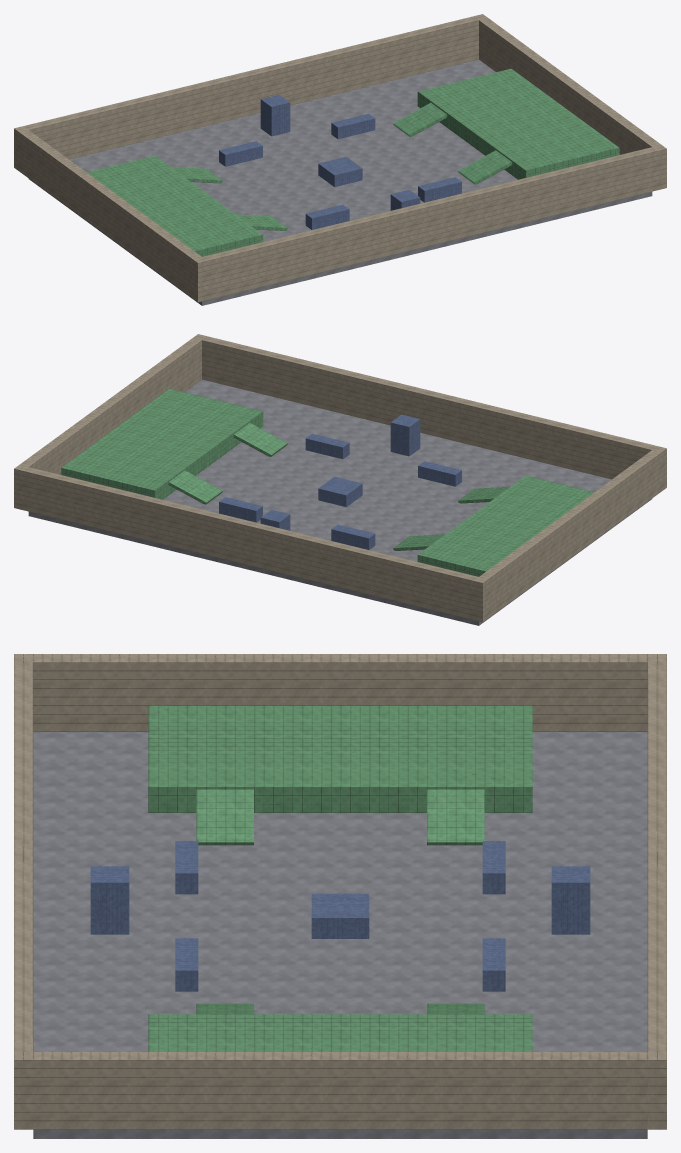
The model's file is arena02.glb.
3 renders of one model, top to bottom at view 1: azimuth 30°, elevation 25°; view 2: azimuth 150°, elevation 25°; view 3: azimuth 270°, elevation 25°, orthographic. The views are drawn at different scales.
Parts seen in each view (by area): view 1: floor, wall_south, wall_north, platform_east, wall_west, platform_west, wall_east, pillar_n, cover_centre, ramp_east_s, ramp_east_n, cover_ne (+6 smaller); view 2: floor, wall_north, wall_south, platform_east, wall_west, platform_west, wall_east, pillar_s, cover_centre, ramp_east_n, ramp_east_s, cover_se (+6 smaller); view 3: floor, wall_east, platform_west, wall_west, platform_east, wall_north, wall_south, ramp_west_n, ramp_west_s, pillar_n, pillar_s, cover_centre (+4 smaller).
Part boxes in pixels (x1,y1,x2,y2): floor: (29, 59, 652, 305); wall_south: (192, 145, 666, 302); wall_north: (14, 14, 487, 170); platform_east: (417, 68, 619, 179); wall_west: (14, 126, 207, 301); platform_west: (87, 155, 263, 256); wall_east: (474, 14, 665, 154); pillar_n: (260, 94, 290, 136); cover_centre: (318, 156, 362, 186); ramp_east_s: (458, 150, 512, 184); ramp_east_n: (393, 103, 447, 136); cover_ne: (331, 113, 375, 139); floor: (28, 379, 651, 625); wall_north: (14, 465, 488, 622); wall_south: (193, 334, 666, 487); platform_east: (61, 388, 263, 499); wall_west: (473, 446, 666, 621); platform_west: (417, 475, 593, 576); wall_east: (14, 334, 206, 507); pillar_s: (390, 414, 420, 456); cover_centre: (318, 476, 362, 506); ramp_east_n: (168, 470, 222, 504); ramp_east_s: (233, 423, 287, 456); cover_se: (305, 433, 349, 459); floor: (33, 732, 647, 1138); wall_east: (14, 1052, 666, 1129); platform_west: (148, 705, 532, 812); wall_west: (14, 654, 666, 731); platform_east: (148, 1014, 532, 1051); wall_north: (647, 654, 666, 1129); wall_south: (14, 654, 33, 1129); ramp_west_n: (427, 789, 484, 845); ramp_west_s: (196, 789, 253, 845); pillar_n: (551, 866, 590, 934); pillar_s: (90, 866, 129, 934); cover_centre: (311, 893, 369, 938).
Size of the model in its own units: 50 by 5 by 34.
Materials: 4 (4 with a texture image).
